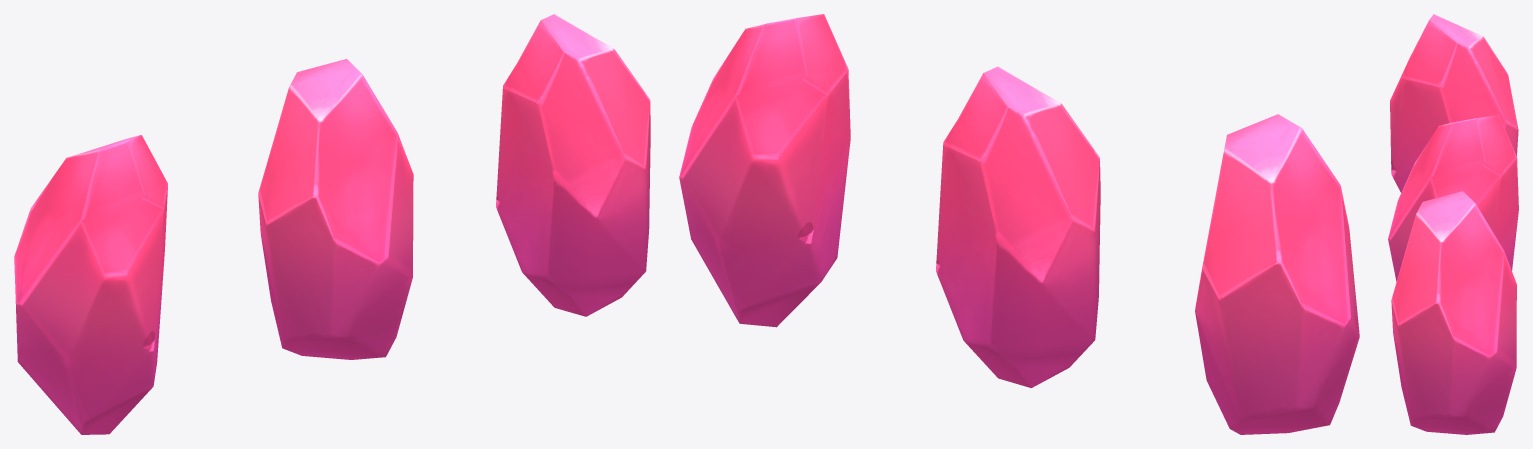
The picture shows the model from 3 angles, left to right: view 1: azimuth 30°, elevation 25°; view 2: azimuth 150°, elevation 25°; view 3: azimuth 270°, elevation 25°; orthographic projection. The views are drawn at different scales.
Parts seen in each view (by area): view 1: Object_2; view 2: Object_2; view 3: Object_2.
Boxes of the visible parts, x1=… form: Object_2: x1=14, y1=14, x2=650, y2=434; Object_2: x1=679, y1=14, x2=1359, y2=434; Object_2: x1=1388, y1=14, x2=1518, y2=434.
Bounding box in the file's own units: 7.18 × 3.22 × 1.61.
Materials: 1 (1 with a texture image).
